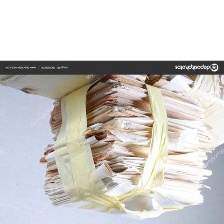news_paper: (36, 74, 214, 221)
